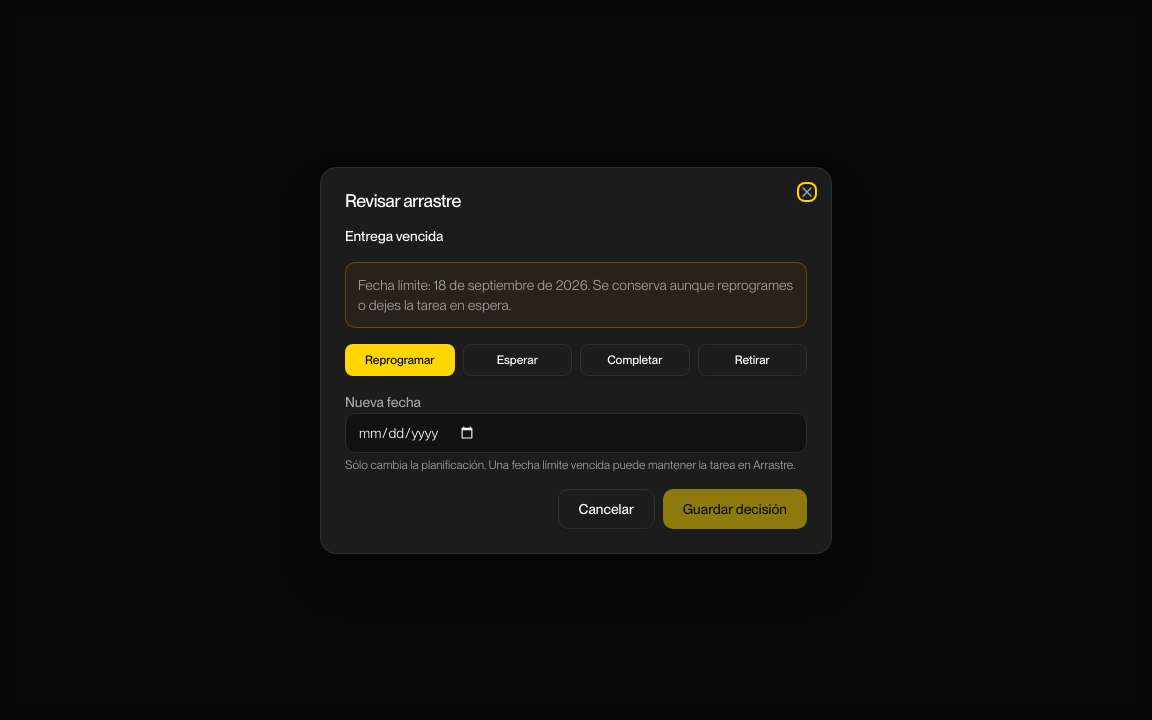
Test: preserves the decision inputs across a conflict until it is explicitly reviewed
Click the button "Esperar": [517, 360] box [462, 344, 572, 376]
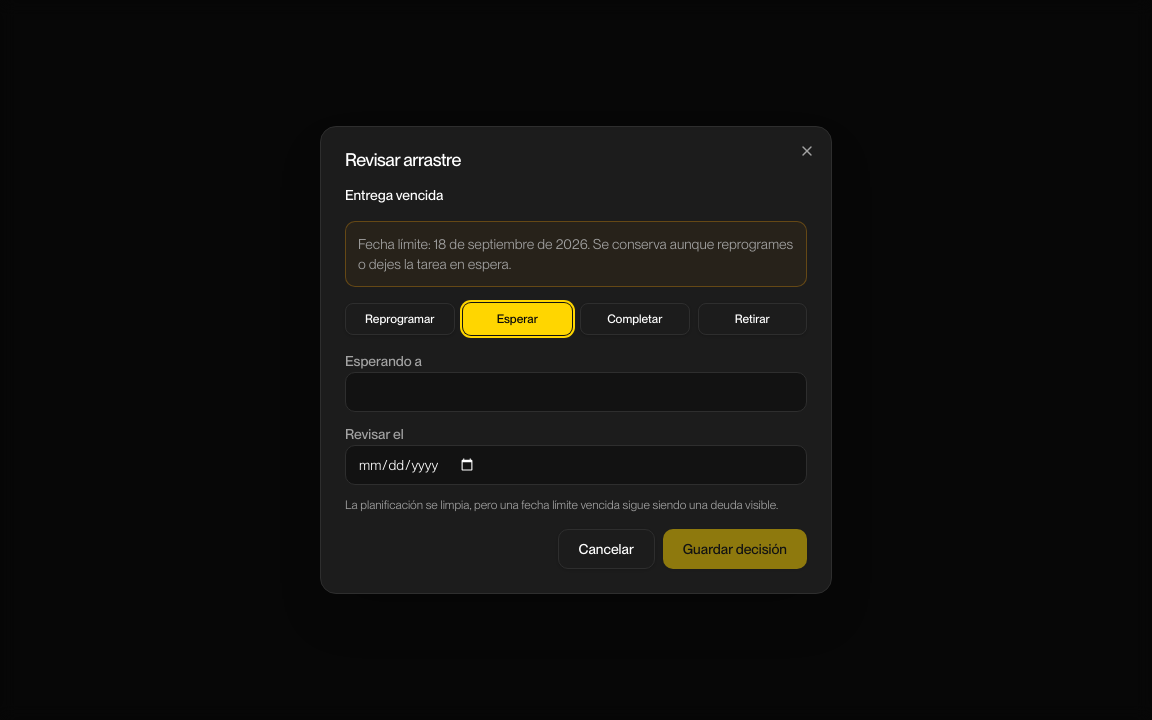
In the field labelled "Esperando a": [576, 392] box [345, 372, 807, 412], type "Cliente"
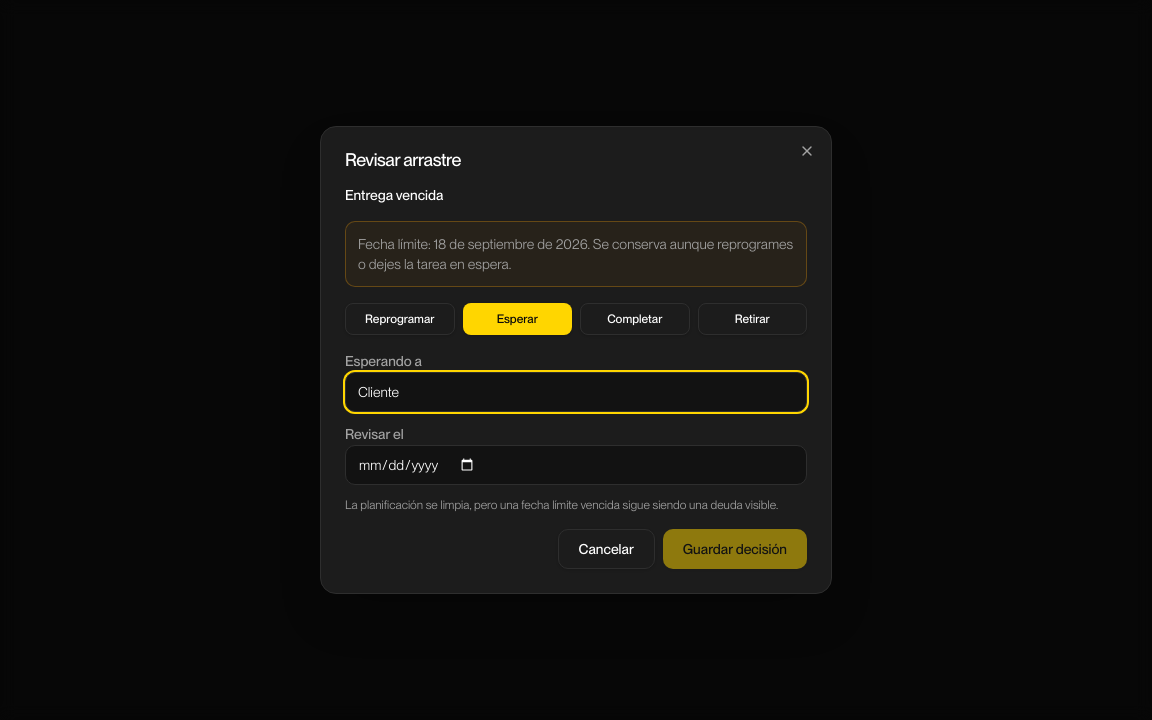
In the date field labelled "Revisar el": [576, 465] box [345, 445, 807, 485], type "2026-09-25"
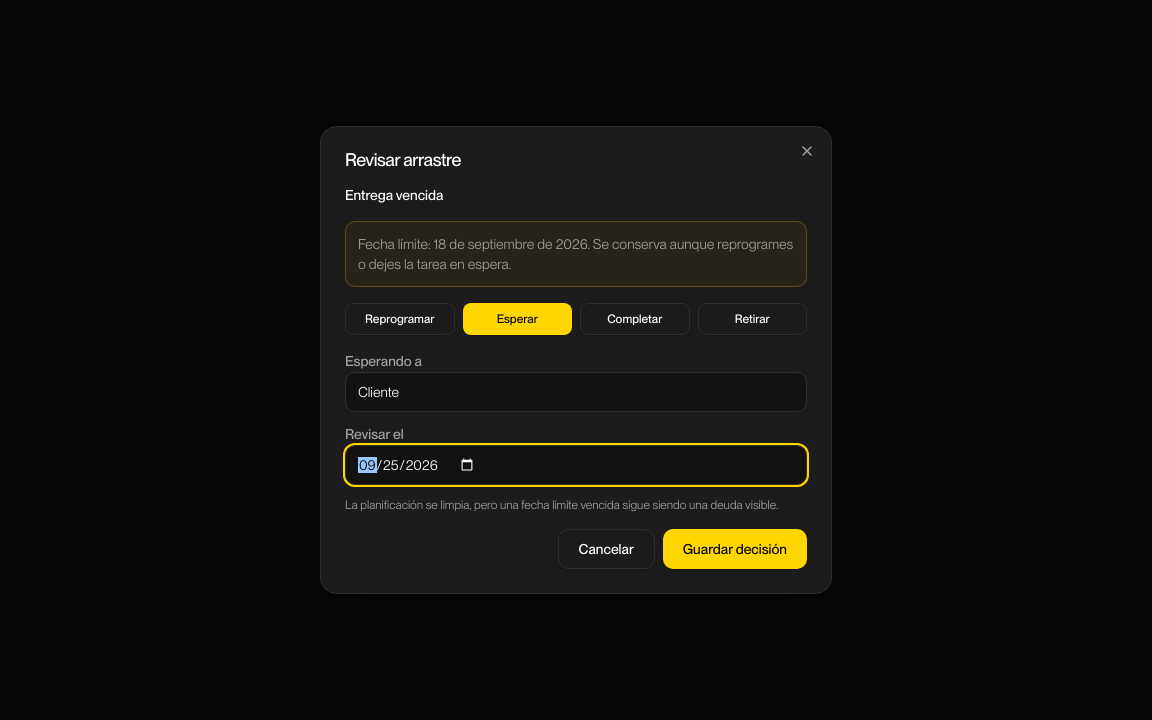
Click the button "Guardar decisión": [735, 549] box [663, 529, 807, 569]
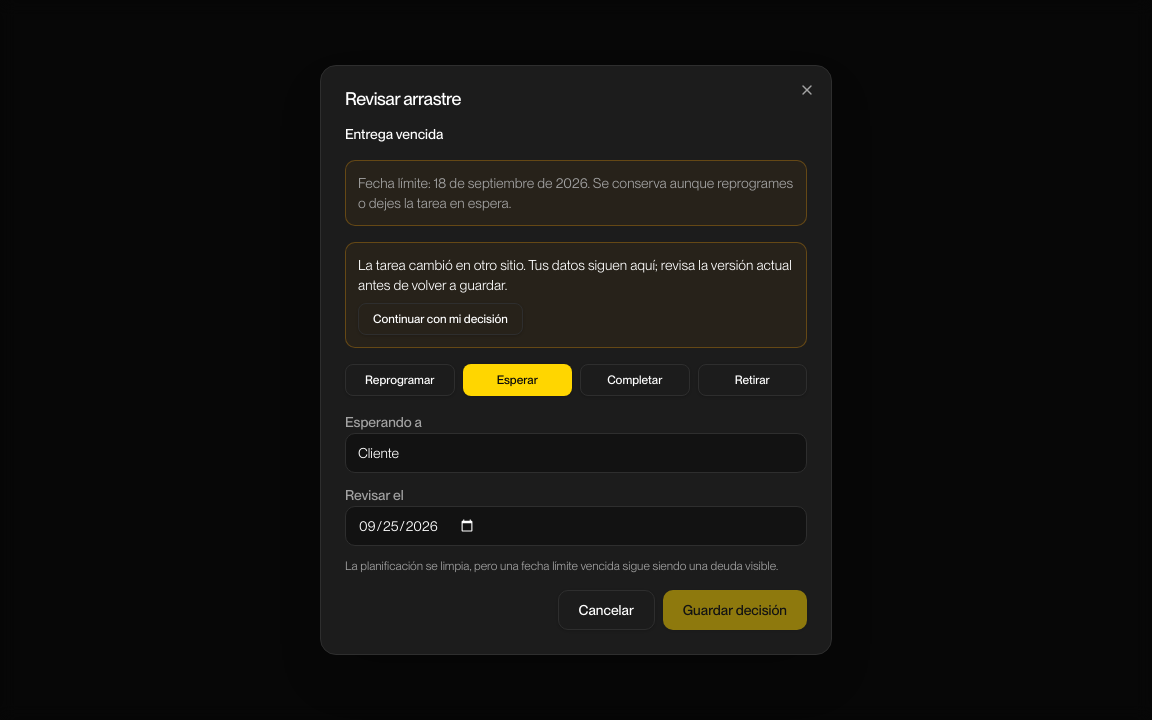
Now the message shows "cambió en otro sitio", box [358, 257, 526, 273]
Now the button "Guardar decisión" is disabled, box [663, 590, 807, 630]
Click the button "Continuar con mi decisión": [440, 319] box [358, 303, 523, 335]
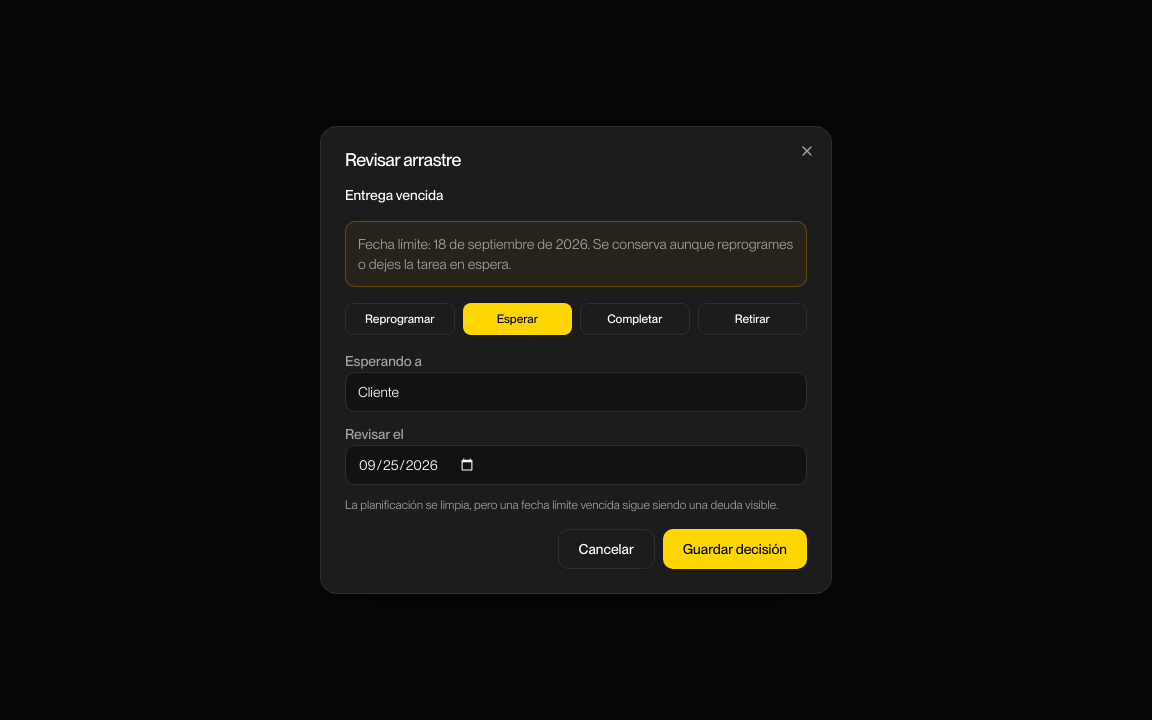
Now the button "Guardar decisión" is enabled, box [663, 529, 807, 569]
